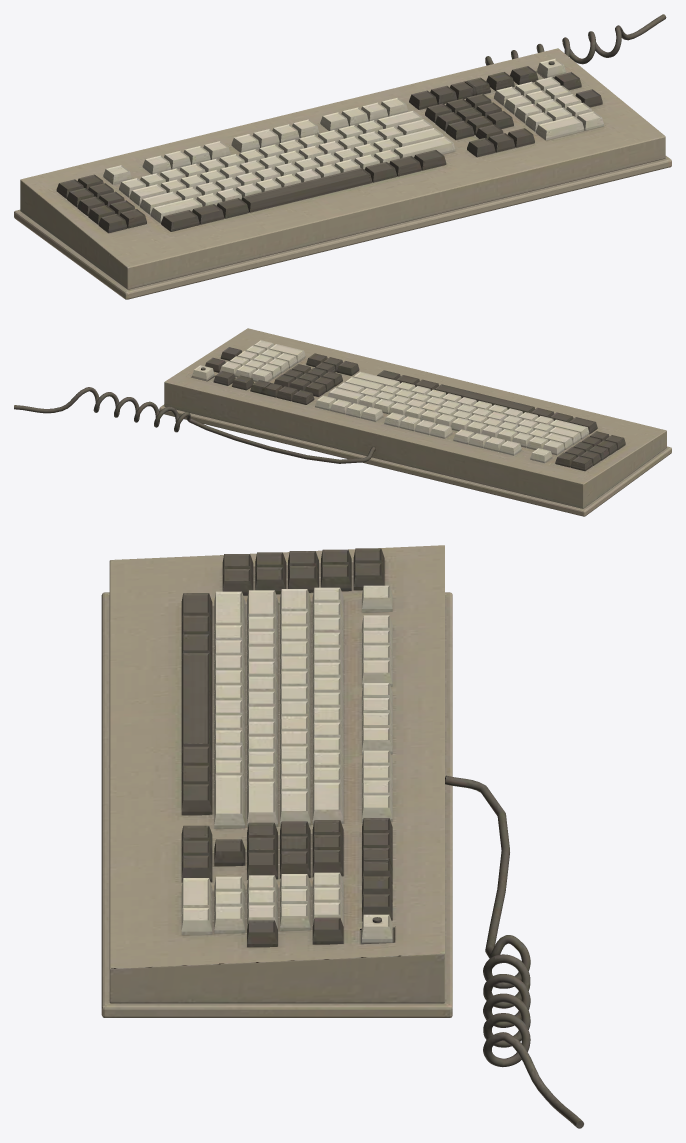
The model's file is keyboard-h.glb.
3 views of the same model, one above another, from view 1: azimuth 30°, elevation 25°; view 2: azimuth 150°, elevation 25°; view 3: azimuth 270°, elevation 25° (orthographic). The views are drawn at different scales.
Parts seen in each view (by area): view 1: case-baked; view 2: case-baked; view 3: case-baked.
Boxes of the visible parts, x1,y1,x2,y2 form: case-baked: (14,14,671,299); case-baked: (14,328,671,516); case-baked: (101,545,583,1128).
Size of the model in its own units: 0.6459 by 0.0452 by 0.2501.
Materials: 1 (1 with a texture image).
